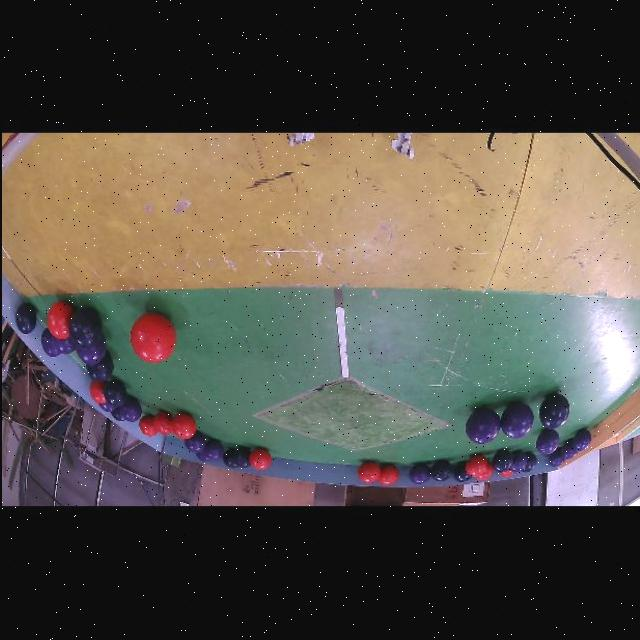B: (68, 307, 100, 349), (538, 393, 569, 429), (84, 351, 112, 381), (101, 380, 126, 407), (14, 303, 35, 333), (201, 438, 223, 461), (430, 459, 452, 481), (183, 431, 205, 453), (491, 449, 512, 472), (452, 461, 470, 483), (521, 452, 536, 472)
P: (465, 407, 500, 444), (500, 402, 532, 438), (74, 335, 105, 366), (535, 428, 558, 455), (118, 397, 140, 422), (408, 463, 430, 484), (573, 428, 591, 451), (508, 450, 526, 472), (548, 448, 562, 467)
R: (129, 312, 174, 362), (45, 301, 71, 340), (169, 412, 195, 438), (247, 448, 270, 470), (356, 461, 379, 483), (464, 454, 487, 476), (152, 411, 170, 435), (377, 464, 397, 485), (138, 414, 156, 436), (499, 470, 513, 477)
